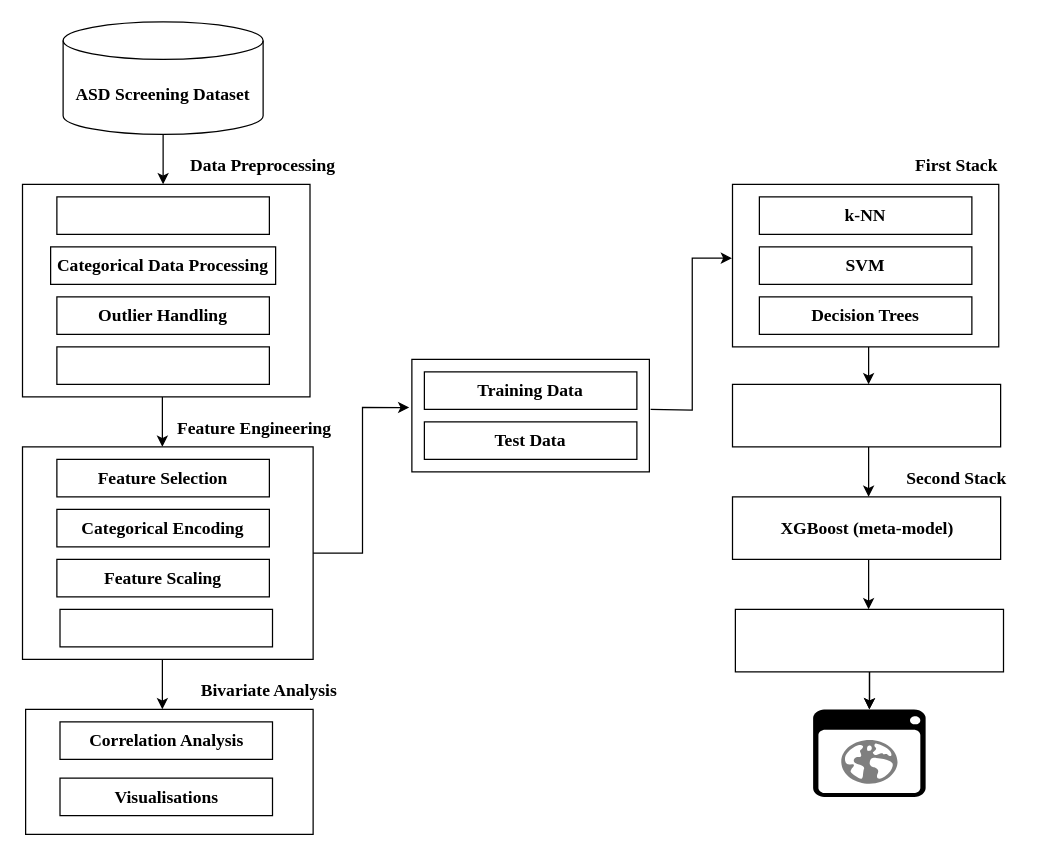
Image size: 1059x856. Some labels were removed from this diagram. Here are the shapes that lost their labels. From the top down, the box of each, then its label:
(56, 196, 269, 234): Data Type Conversion
(56, 346, 269, 384): Duplicate Handling
(731, 383, 1001, 447): New Training Set
(59, 608, 272, 647): Hyperparameter Tuning
(734, 608, 1004, 672): Final Predictions
